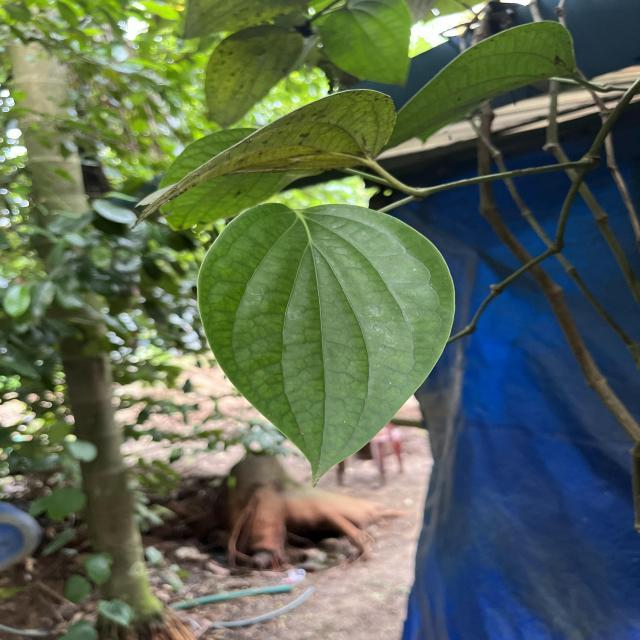Piper nigrum: (195, 200, 458, 490)
